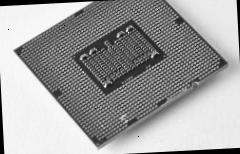electronic: (10, 0, 232, 153)
